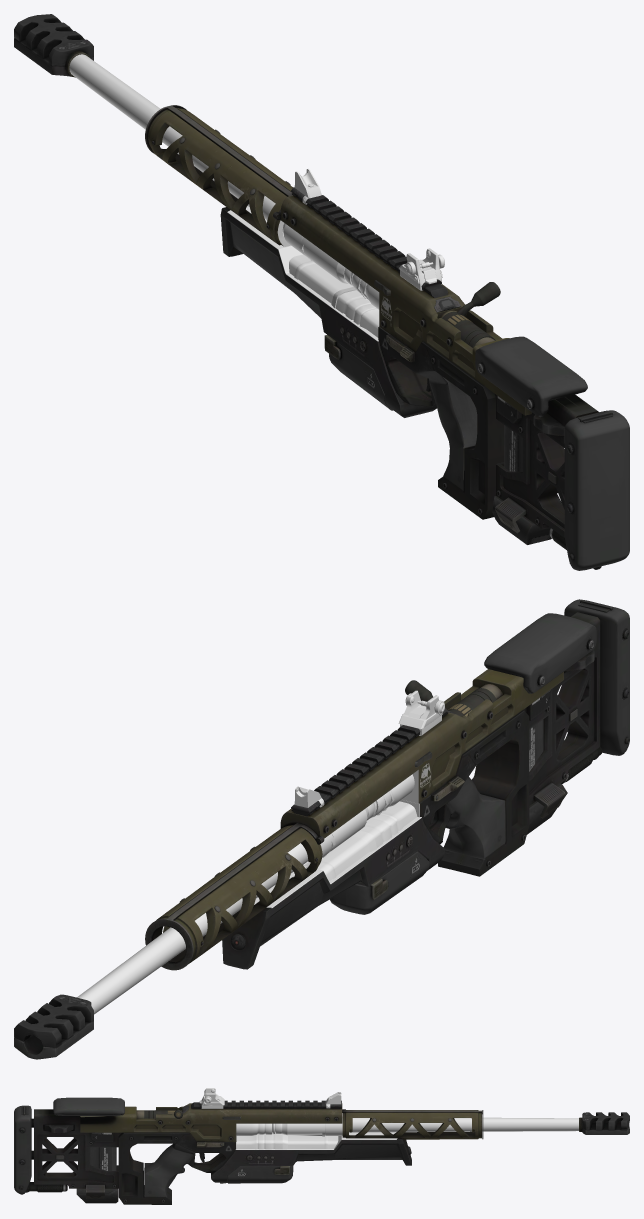
Rendered from apex_sentinel.glb.
3 views of the same model, one above another, from view 1: azimuth 30°, elevation 25°; view 2: azimuth 150°, elevation 25°; view 3: azimuth 270°, elevation 25° (orthographic). The views are drawn at different scales.
Visible parts, largest first — view 1: body__tex_apex_sentinel_4, body__polymer_1, mag__tex_apex_sentinel_m3, irons__polymer_5, bolt__tex_apex_sentinel_m2, bolt__polymer_m0; view 2: body__tex_apex_sentinel_4, body__polymer_1, mag__tex_apex_sentinel_m3, irons__polymer_5, bolt__tex_apex_sentinel_m2, bolt__polymer_m0; view 3: body__tex_apex_sentinel_4, body__polymer_1, mag__tex_apex_sentinel_m3, irons__polymer_5, bolt__polymer_m0, bolt__tex_apex_sentinel_m2.
Boxes of the visible parts, bbox=[...] form: body__tex_apex_sentinel_4: bbox=[14, 14, 629, 570]; body__polymer_1: bbox=[69, 54, 379, 341]; mag__tex_apex_sentinel_m3: bbox=[324, 335, 551, 544]; irons__polymer_5: bbox=[294, 169, 444, 290]; bolt__tex_apex_sentinel_m2: bbox=[442, 282, 500, 347]; bolt__polymer_m0: bbox=[299, 237, 368, 299]; body__tex_apex_sentinel_4: bbox=[14, 599, 629, 1059]; body__polymer_1: bbox=[77, 770, 421, 1014]; mag__tex_apex_sentinel_m3: bbox=[330, 719, 567, 914]; irons__polymer_5: bbox=[294, 690, 444, 807]; bolt__tex_apex_sentinel_m2: bbox=[405, 680, 502, 716]; bolt__polymer_m0: bbox=[323, 790, 394, 857]; body__tex_apex_sentinel_4: bbox=[14, 1097, 629, 1204]; body__polymer_1: bbox=[235, 1117, 578, 1149]; mag__tex_apex_sentinel_m3: bbox=[76, 1147, 293, 1203]; irons__polymer_5: bbox=[199, 1088, 341, 1108]; bolt__polymer_m0: bbox=[272, 1123, 324, 1136]; bolt__tex_apex_sentinel_m2: bbox=[136, 1110, 182, 1118].
Bounding box in the file's own units: 0.1074 × 0.2661 × 1.36.
2 materials, 1 textured.
